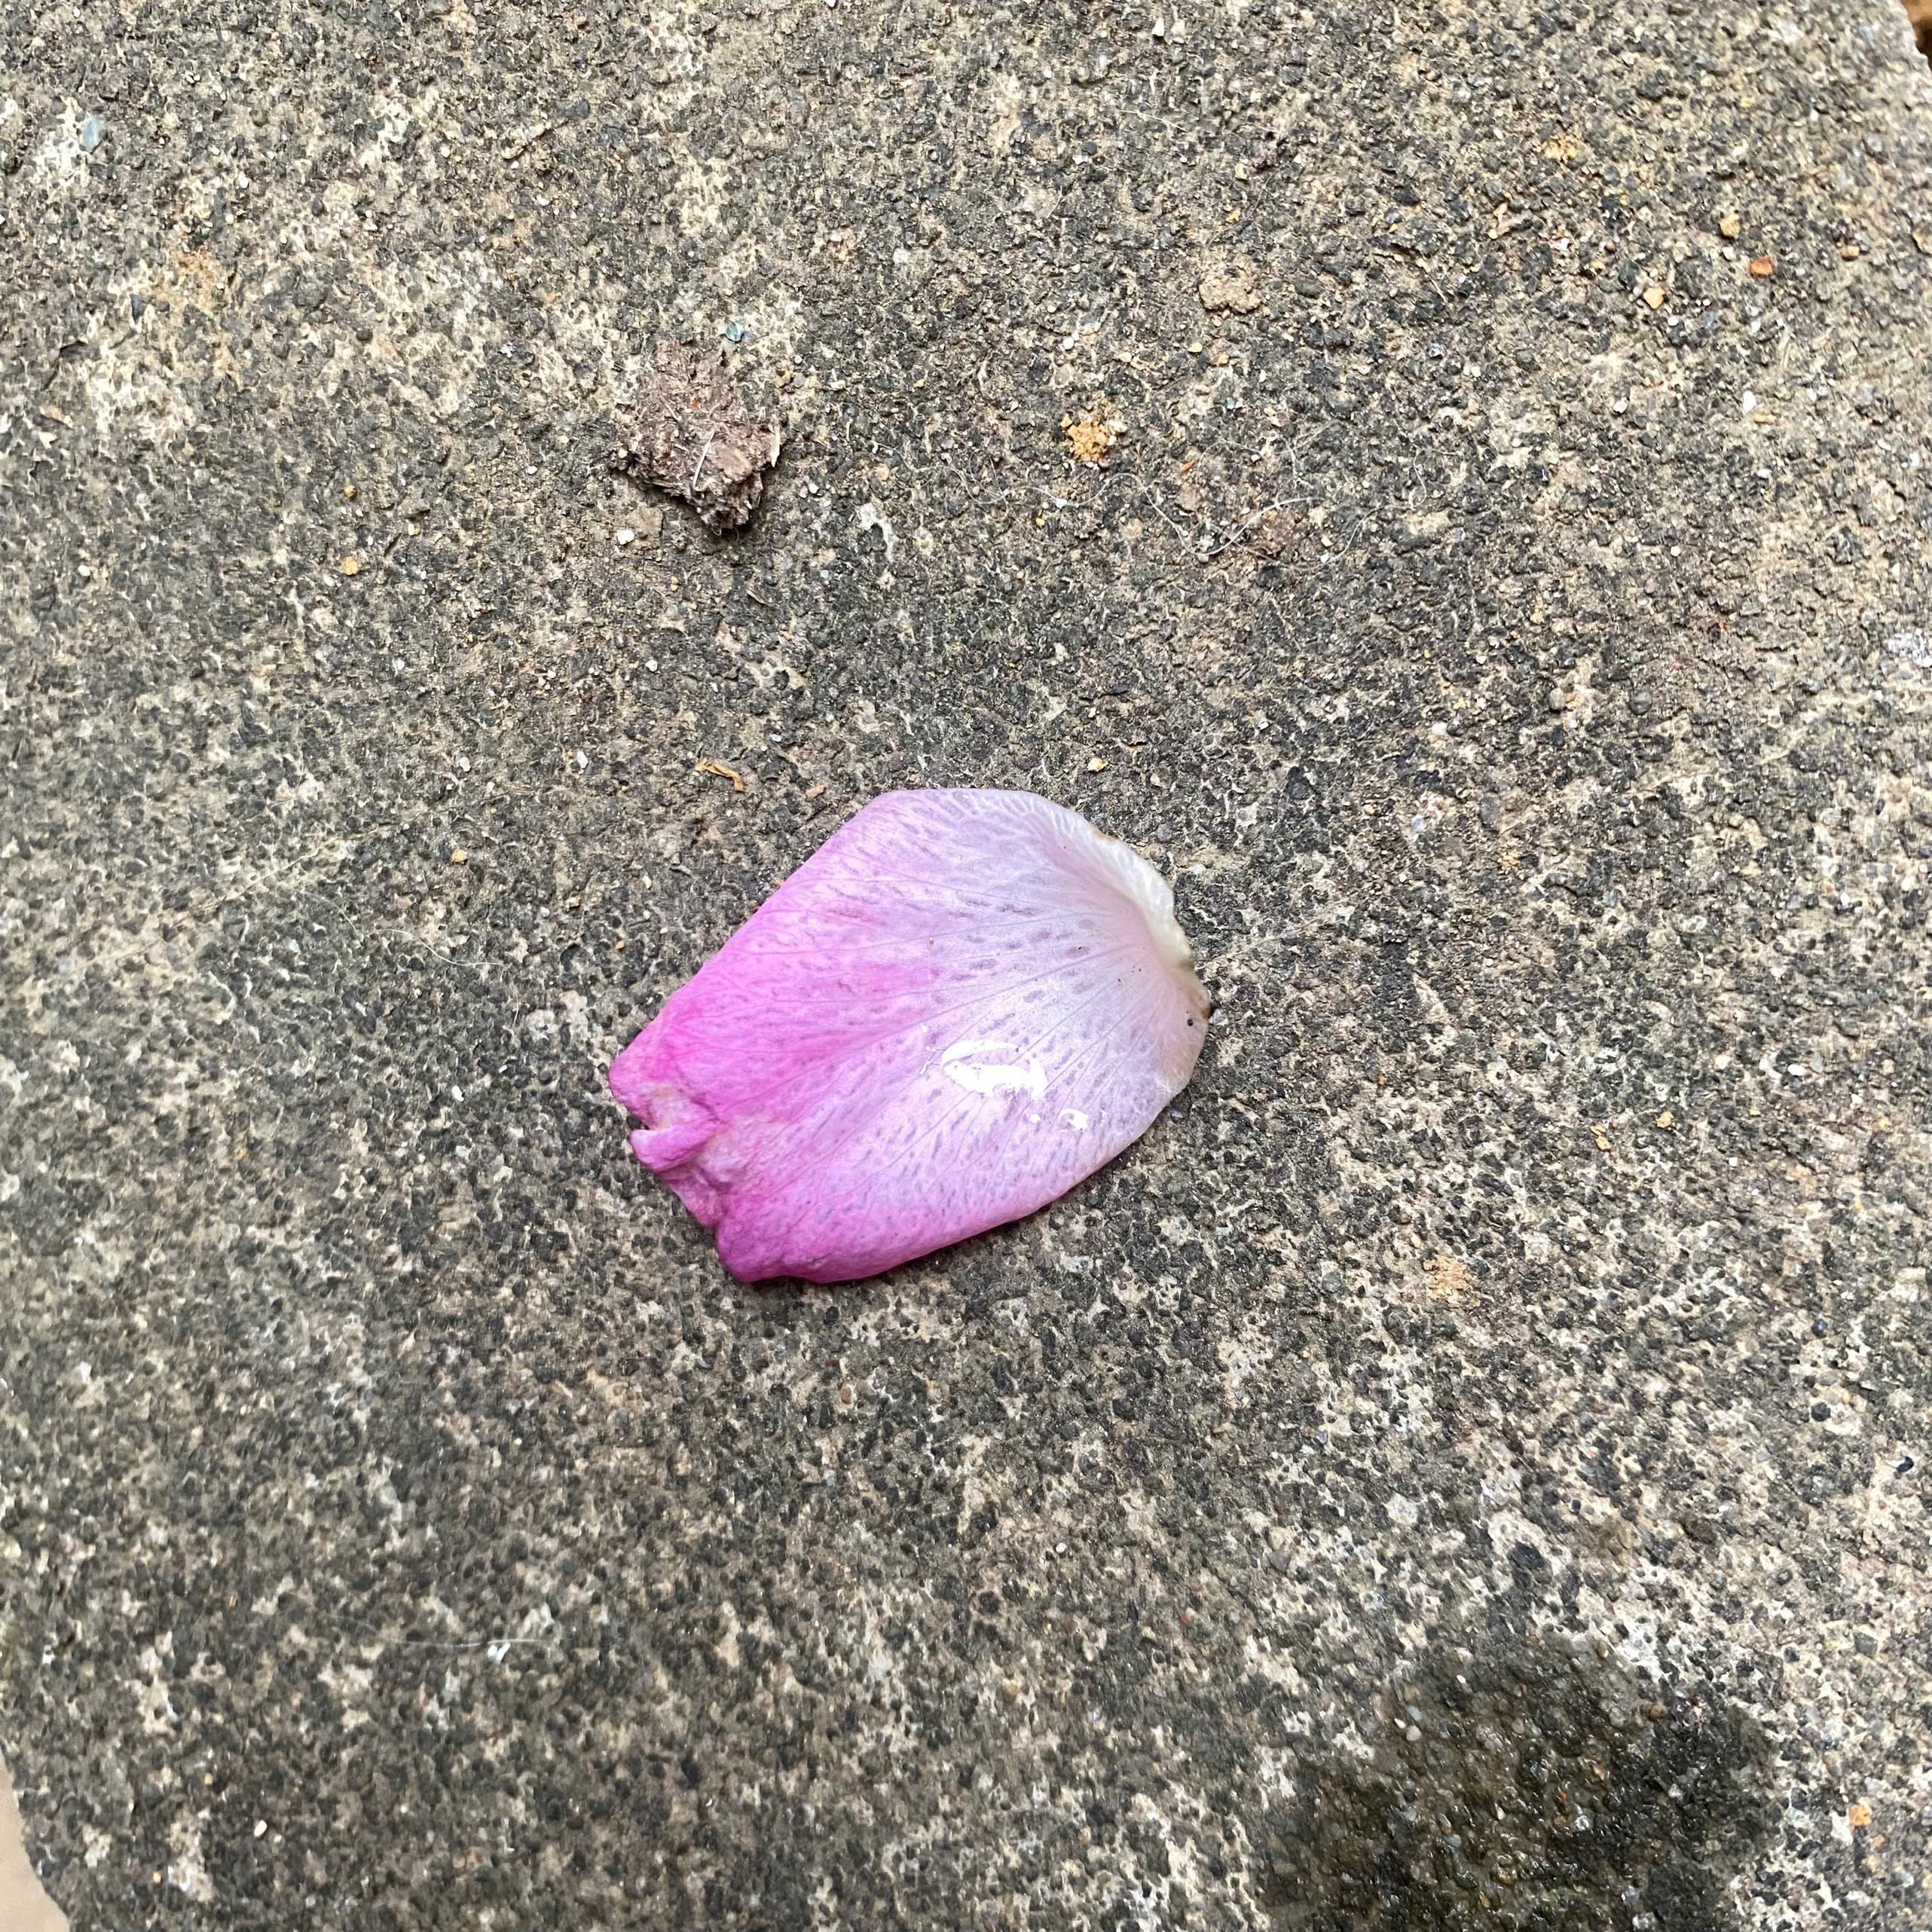hoa_hong_phan: (518, 722, 1325, 1341)
